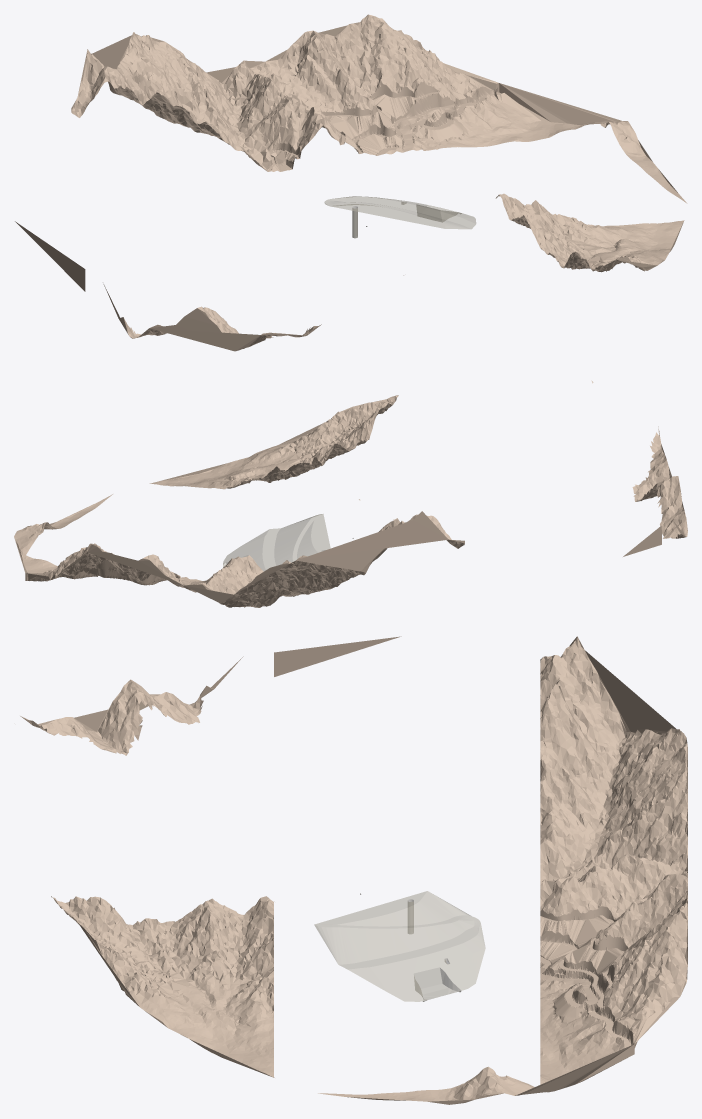
The picture shows the model from 3 angles, top to bottom: view 1: azimuth 30°, elevation 25°; view 2: azimuth 150°, elevation 25°; view 3: azimuth 270°, elevation 25°; orthographic projection. The views are drawn at different scales.
Visible parts, largest first — view 1: 3Gh$jZuurAhOCqVcZMCG6A; view 2: 3Gh$jZuurAhOCqVcZMCG6A; view 3: 3Gh$jZuurAhOCqVcZMCG6A.
Boxes of the visible parts, x1=… form: 3Gh$jZuurAhOCqVcZMCG6A: x1=15, y1=14, x2=687, y2=351; 3Gh$jZuurAhOCqVcZMCG6A: x1=14, y1=380, x2=687, y2=607; 3Gh$jZuurAhOCqVcZMCG6A: x1=20, y1=636, x2=687, y2=1104.
Size of the model in its own units: 626 by 170 by 506.
